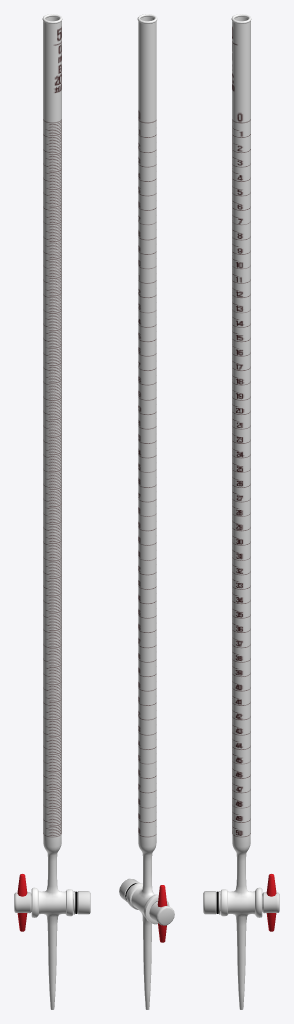
Rendered from Burette.fbx.
3 views of the same model, side by side, from view 1: azimuth 90°, elevation 25°; view 2: azimuth 210°, elevation 25°; view 3: azimuth 270°, elevation 25° (orthographic).
Parts seen in each view (by area): view 1: burette, burette_cork; view 2: burette, burette_cork; view 3: burette, burette_cork.
Part boxes in pixels (box(x1,y1,x2,y2)): burette: box(31, 14, 73, 1009); burette_cork: box(14, 874, 90, 931); burette: box(127, 14, 169, 1009); burette_cork: box(119, 878, 174, 942); burette: box(220, 14, 262, 1009); burette_cork: box(203, 874, 279, 931).
Bounding box in the file's own units: 2.06 × 79.1 × 5.5.
